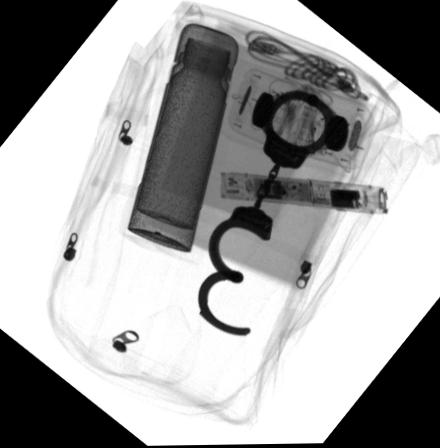Baton: (217, 170, 391, 216)
HandCuffs: (197, 89, 338, 336)
